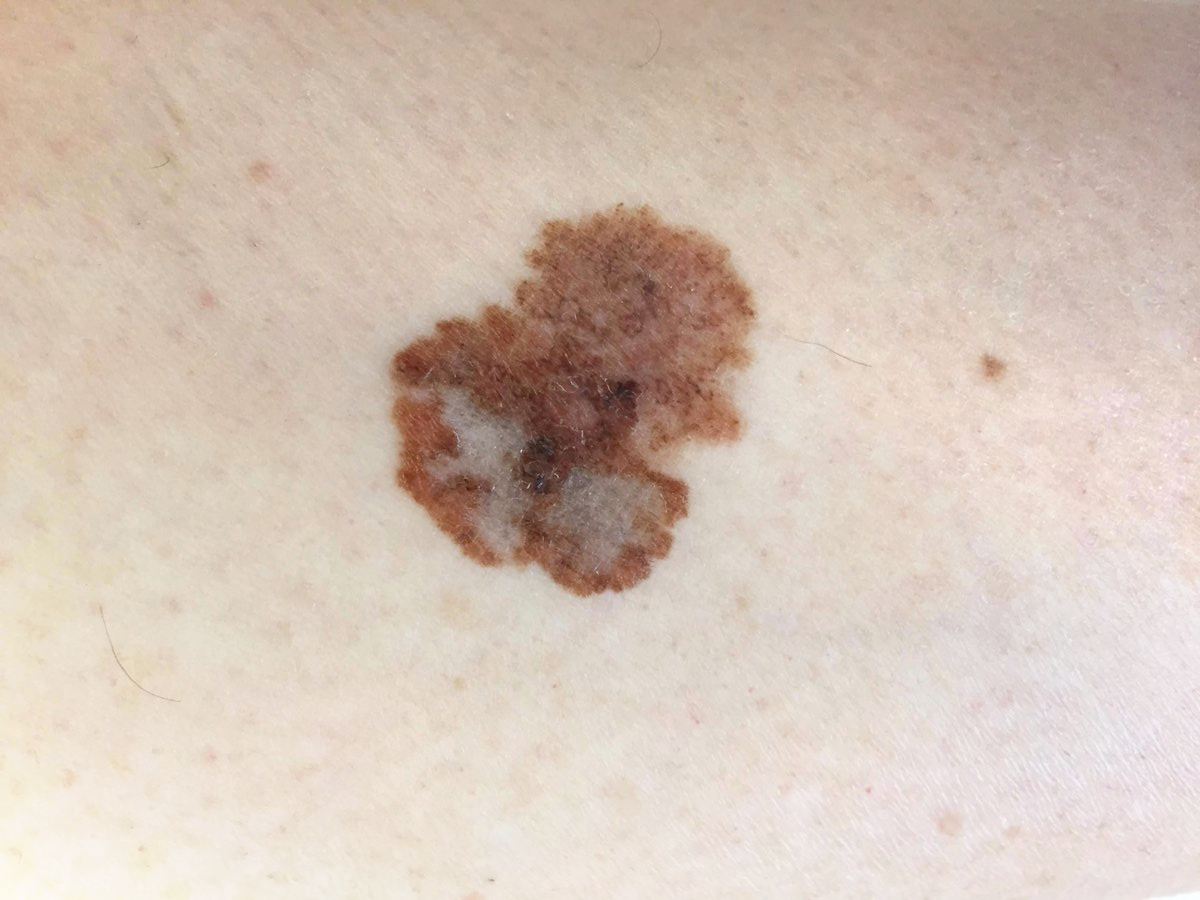Melanoma: (390, 210, 760, 595)
